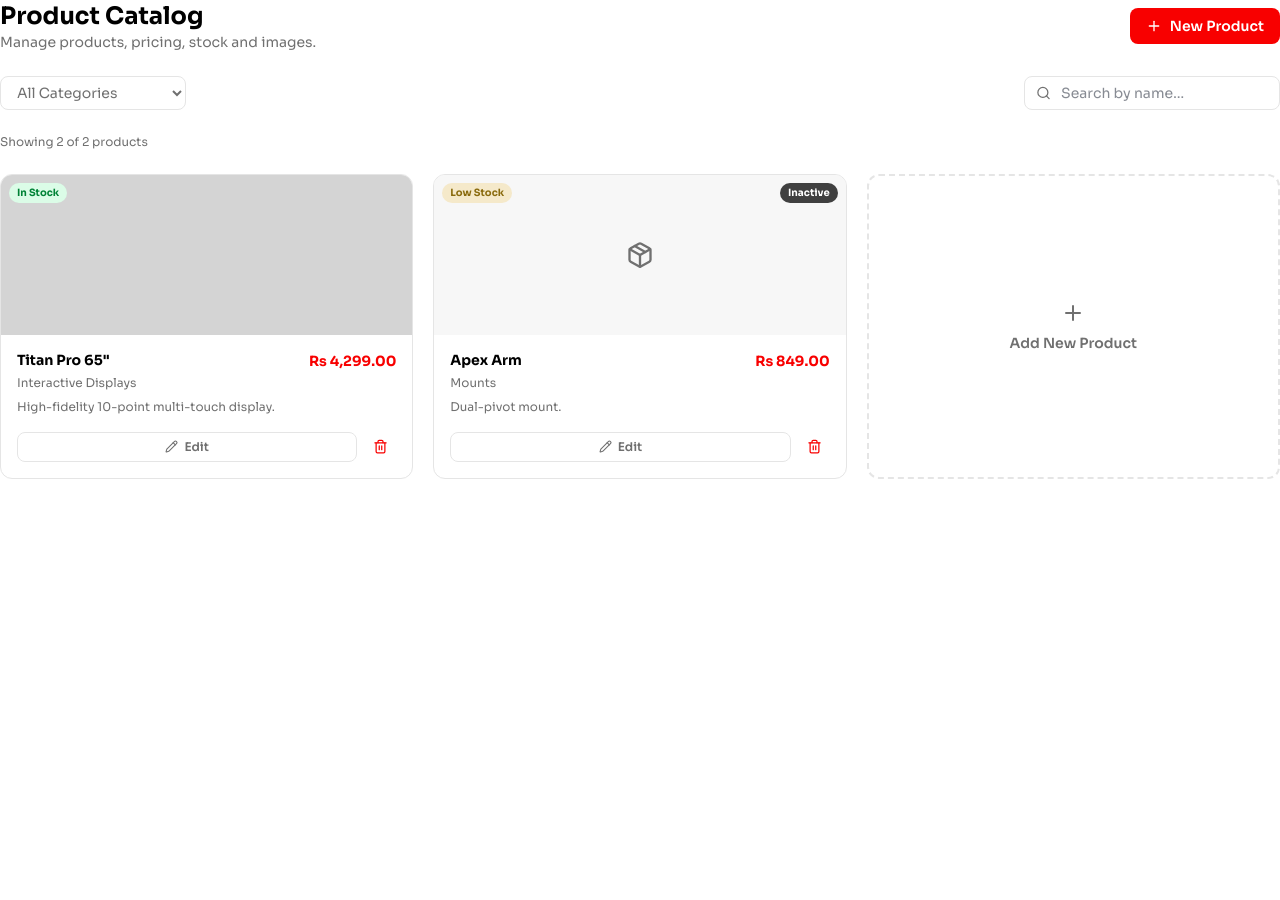
Admin Products › deletes a product after confirming, removes the card, and shows a success toast
Expected: the heading "Apex Arm" is shown, [450,351,522,370]
Step 1. Click the button titled "Delete" below "Dual-pivot mount." → x=814, y=446, box [799,431,830,462]
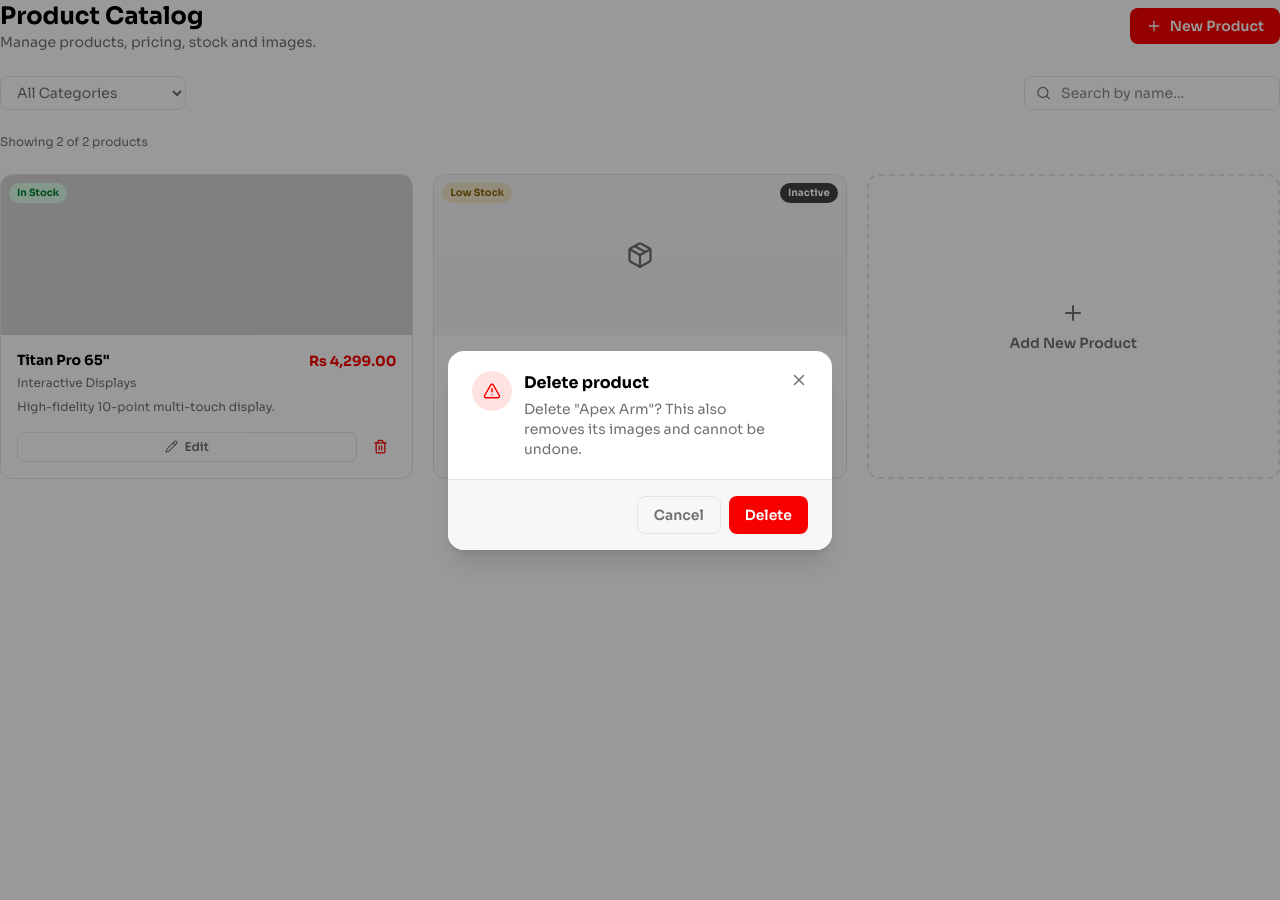
Step 2. Click the button "Delete" → x=768, y=514, box [729,496,808,534]
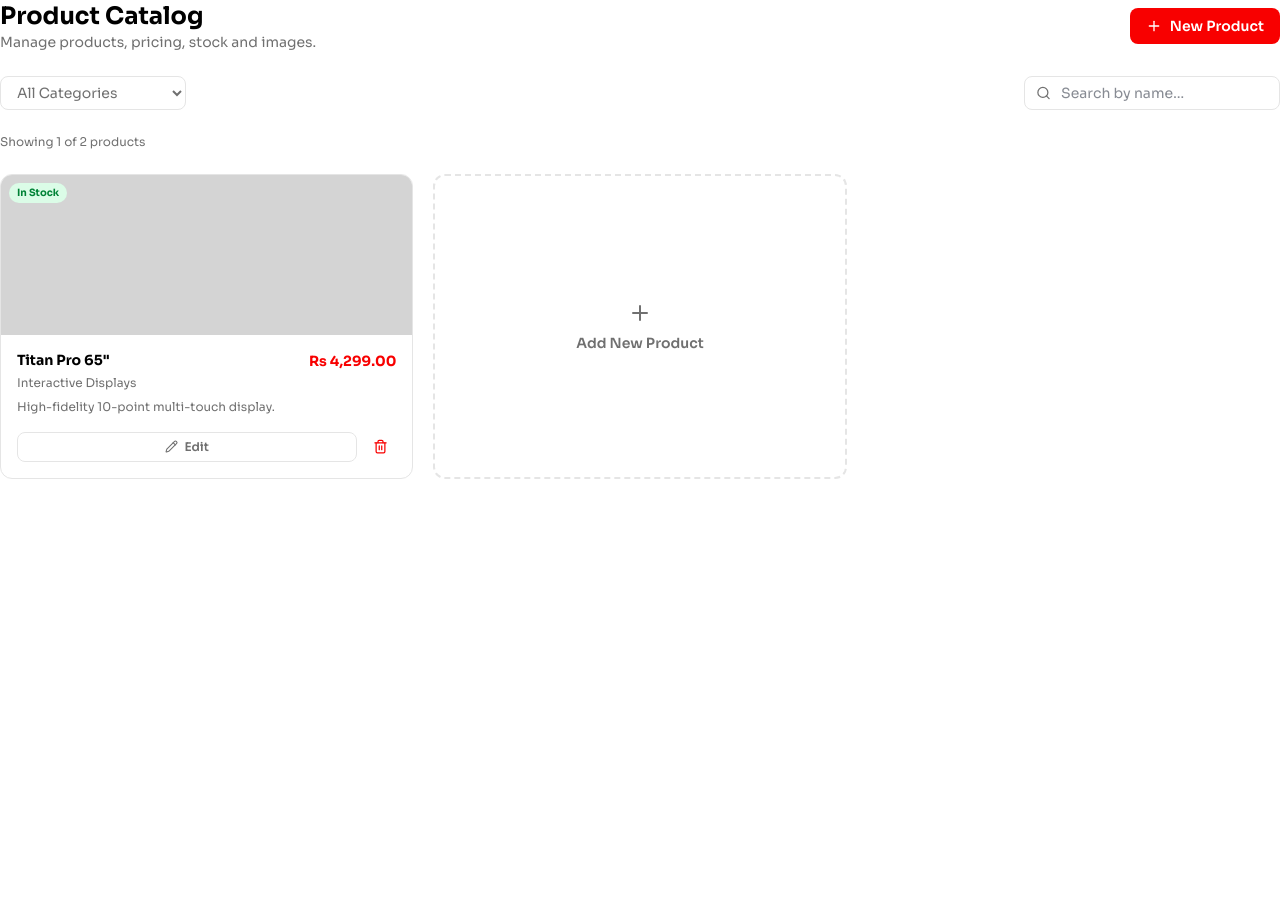
Now the heading "Apex Arm" is gone
